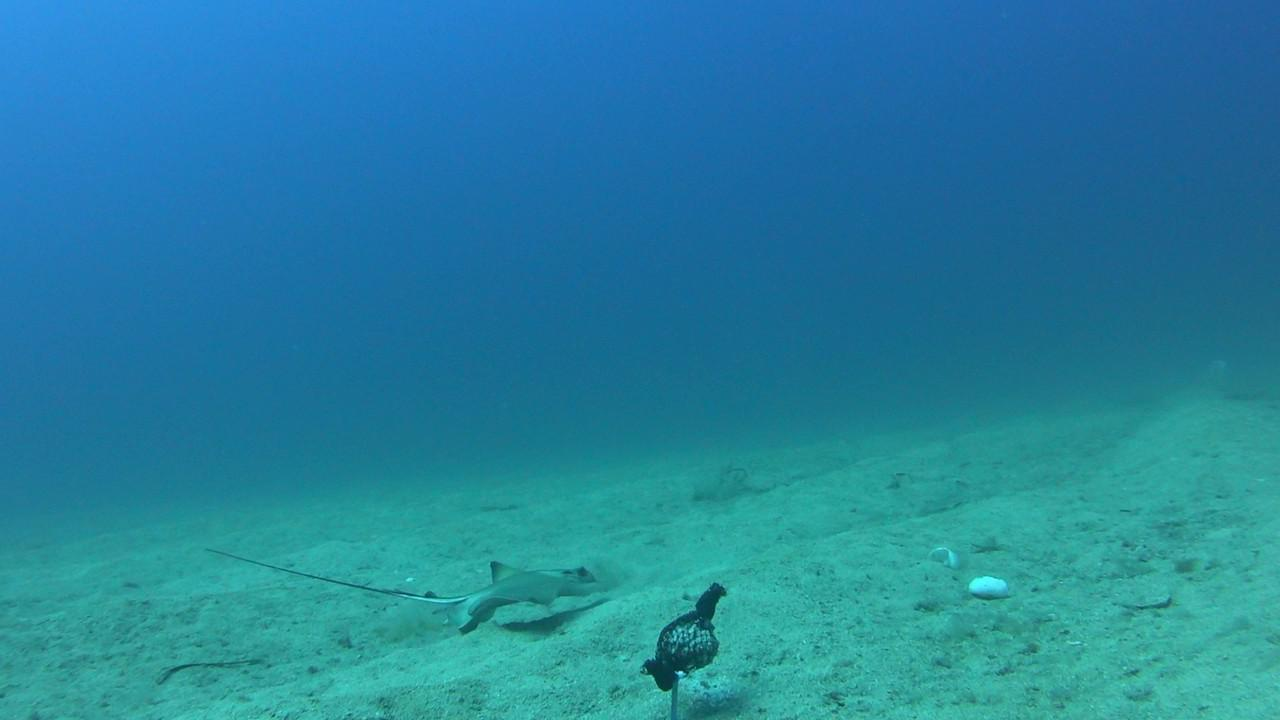myliobatis: (196, 537, 618, 641)
